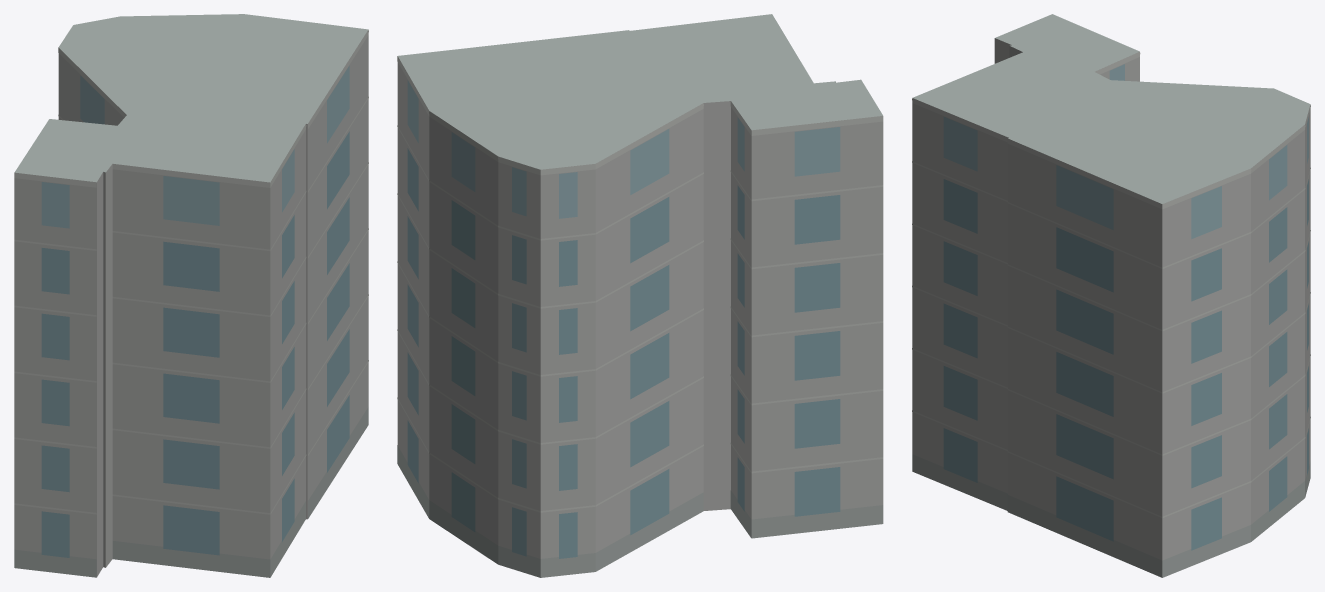
The model's file is survey-upis-32810522.glb.
3 renders of one model, left to right at view 1: azimuth 30°, elevation 25°; view 2: azimuth 150°, elevation 25°; view 3: azimuth 270°, elevation 25°, orthographic. The views are drawn at different scales.
Visible parts, largest first — view 1: survey-upis-32810522.tmp; view 2: survey-upis-32810522.tmp; view 3: survey-upis-32810522.tmp.
Part boxes in pixels (bbox=[...]): survey-upis-32810522.tmp: bbox=[14, 14, 368, 577]; survey-upis-32810522.tmp: bbox=[397, 14, 883, 577]; survey-upis-32810522.tmp: bbox=[912, 14, 1310, 577].
Size of the model in its own units: 19.12 by 17.5 by 16.92.
